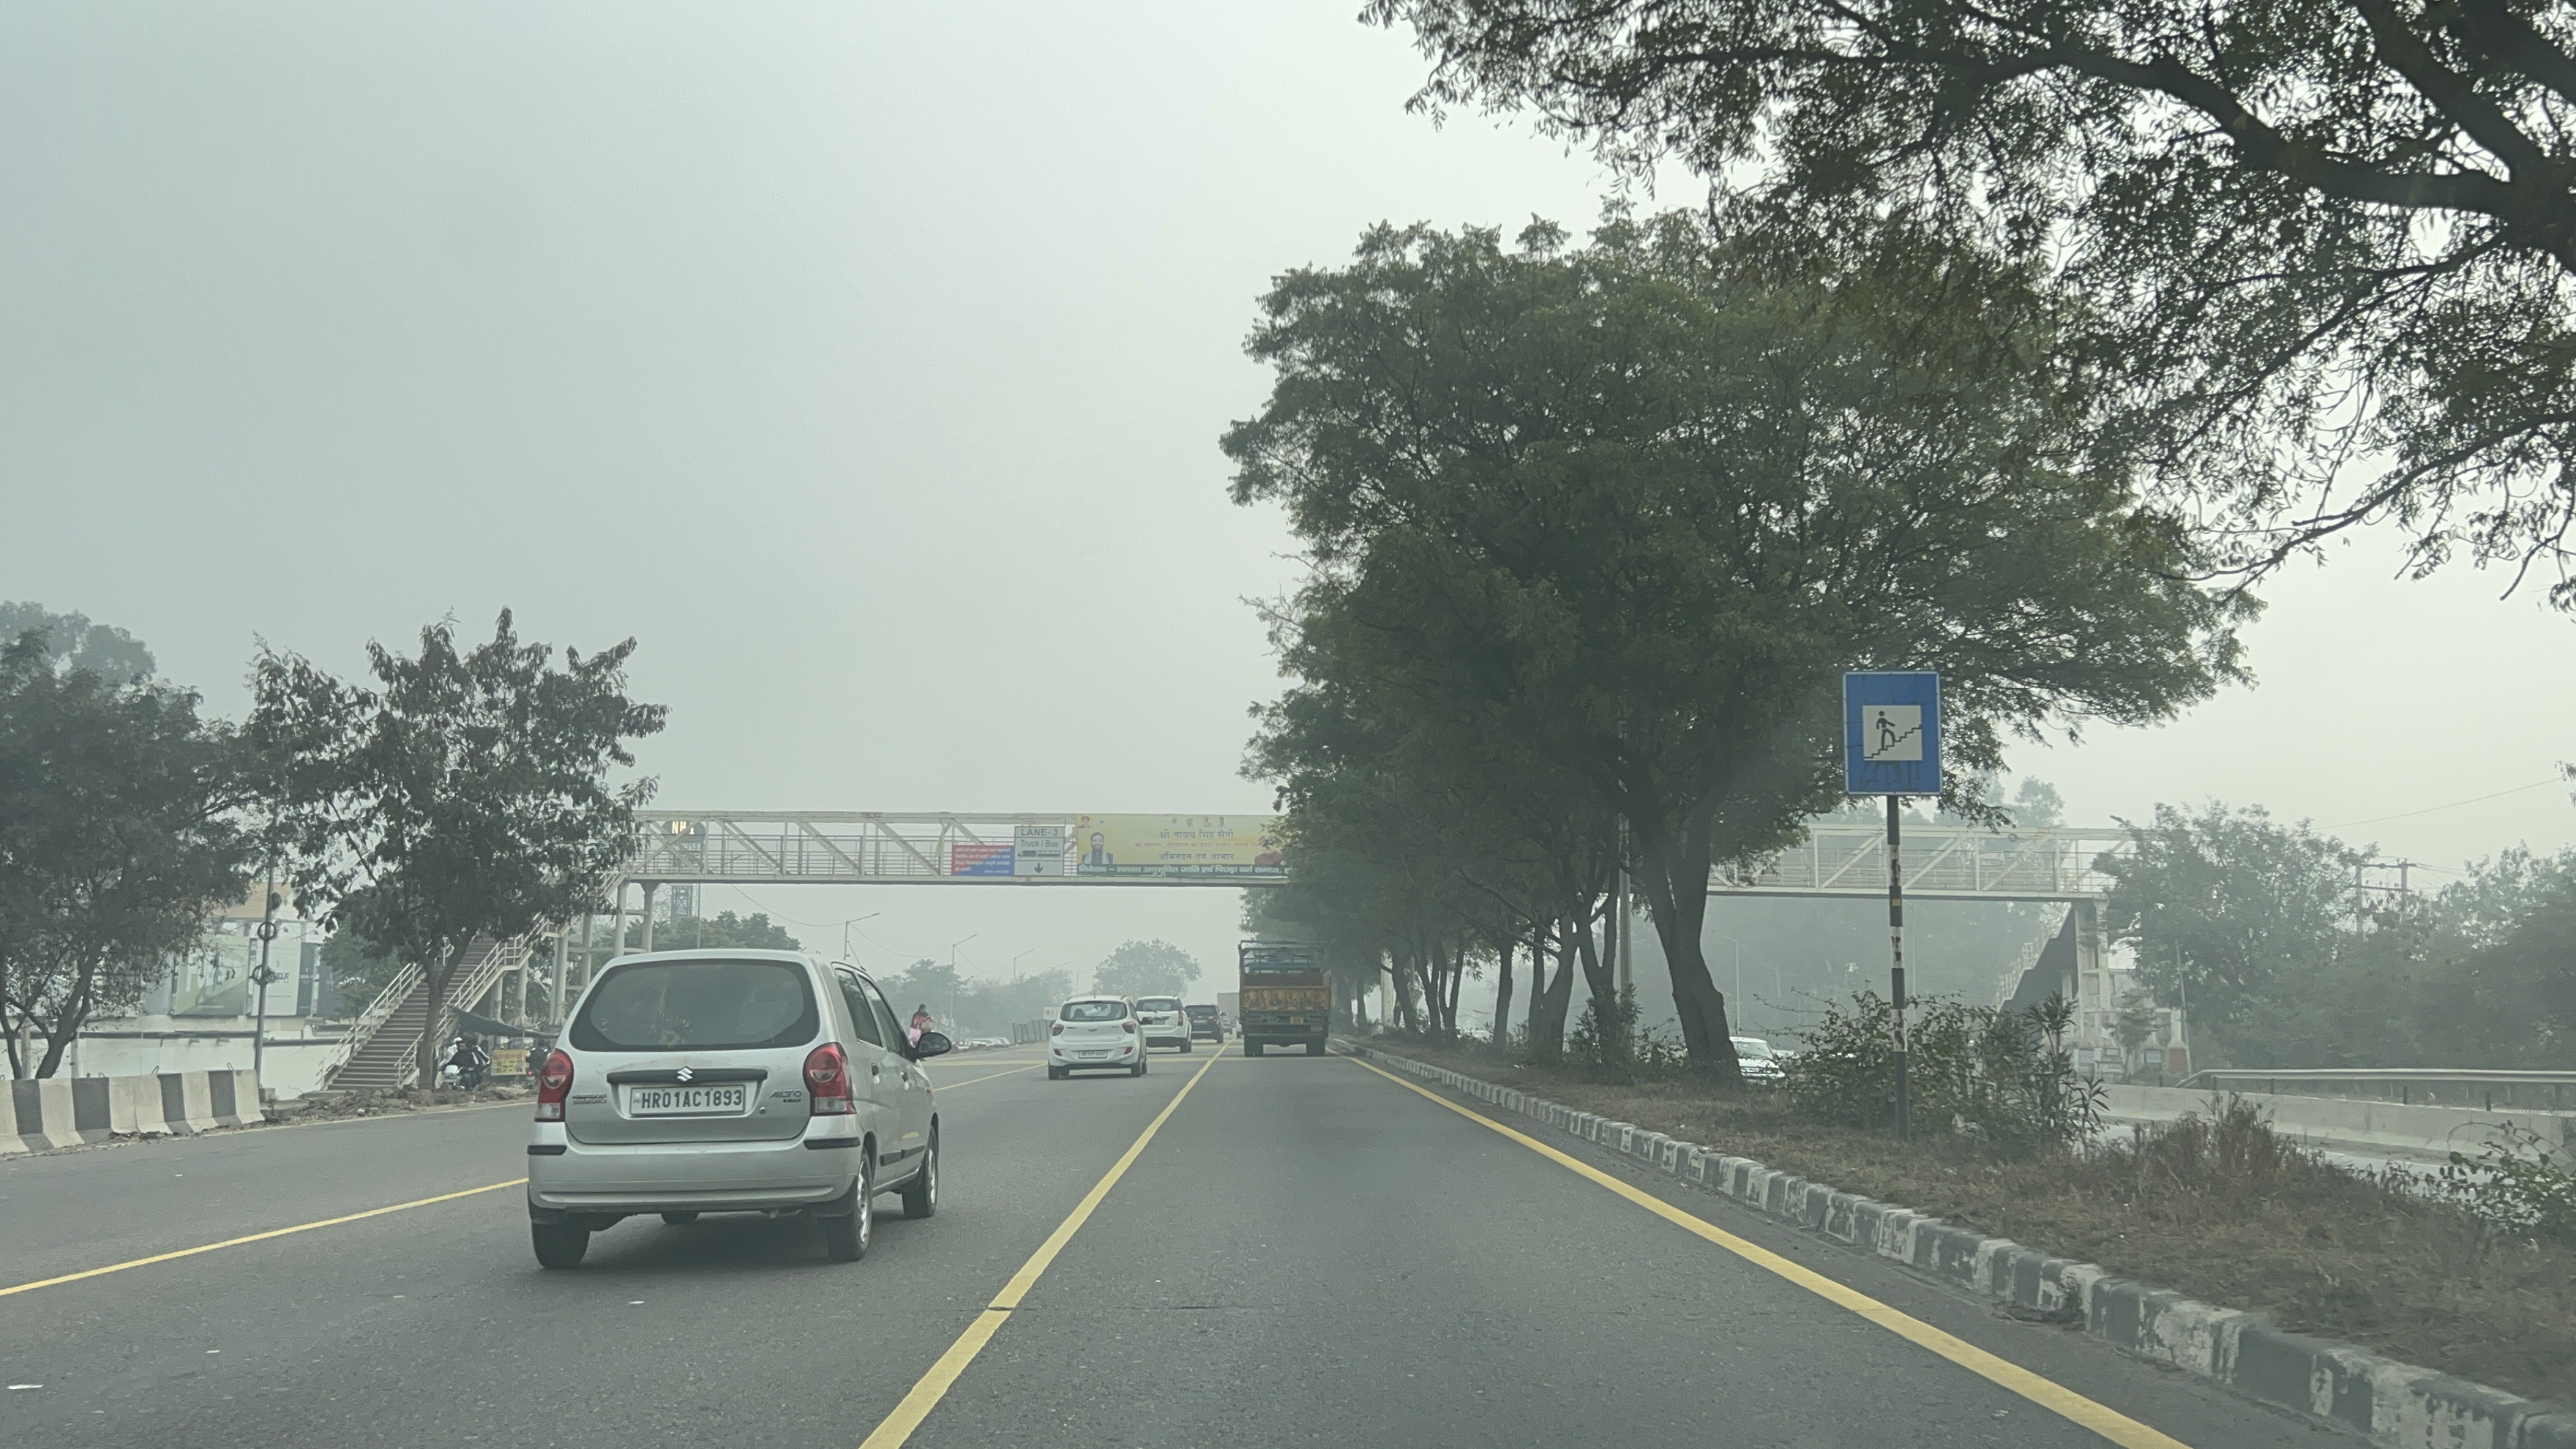Informatory: (1833, 658, 1953, 810)
